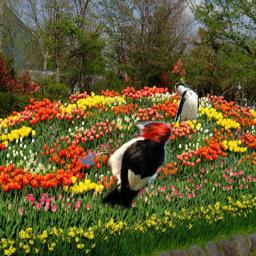Swallow: (175, 82, 199, 122)
Woodpecker: (91, 121, 173, 211)
